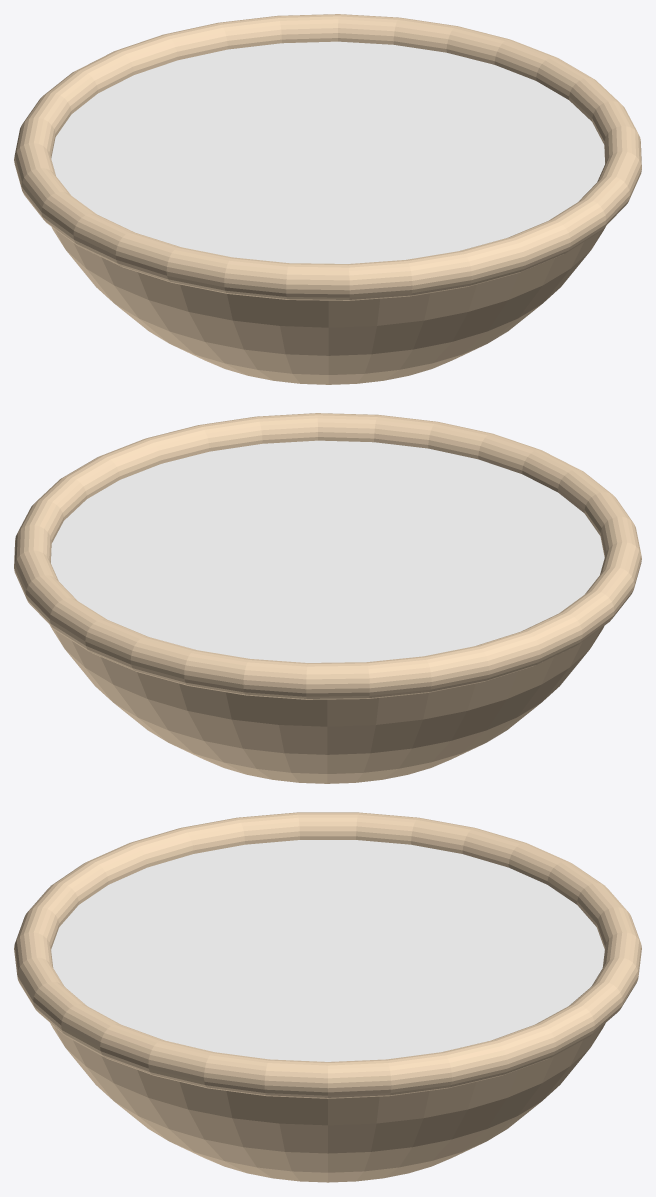
File: DosaBatter.fbx
The picture shows the model from 3 angles, top to bottom: view 1: azimuth 30°, elevation 25°; view 2: azimuth 150°, elevation 25°; view 3: azimuth 270°, elevation 25°; orthographic projection.
Parts seen in each view (by area): view 1: pDisc1, bowl:Sphere_1; view 2: pDisc1, bowl:Sphere_1; view 3: pDisc1, bowl:Sphere_1.
Boxes of the visible parts, <box> form: pDisc1: <box>51,41,604,263</box>; bowl:Sphere_1: <box>14,14,641,384</box>; pDisc1: <box>51,440,604,662</box>; bowl:Sphere_1: <box>14,413,641,783</box>; pDisc1: <box>51,840,604,1061</box>; bowl:Sphere_1: <box>14,812,641,1182</box>.
Size of the model in its own units: 0.8325 by 0.2836 by 0.8335.
